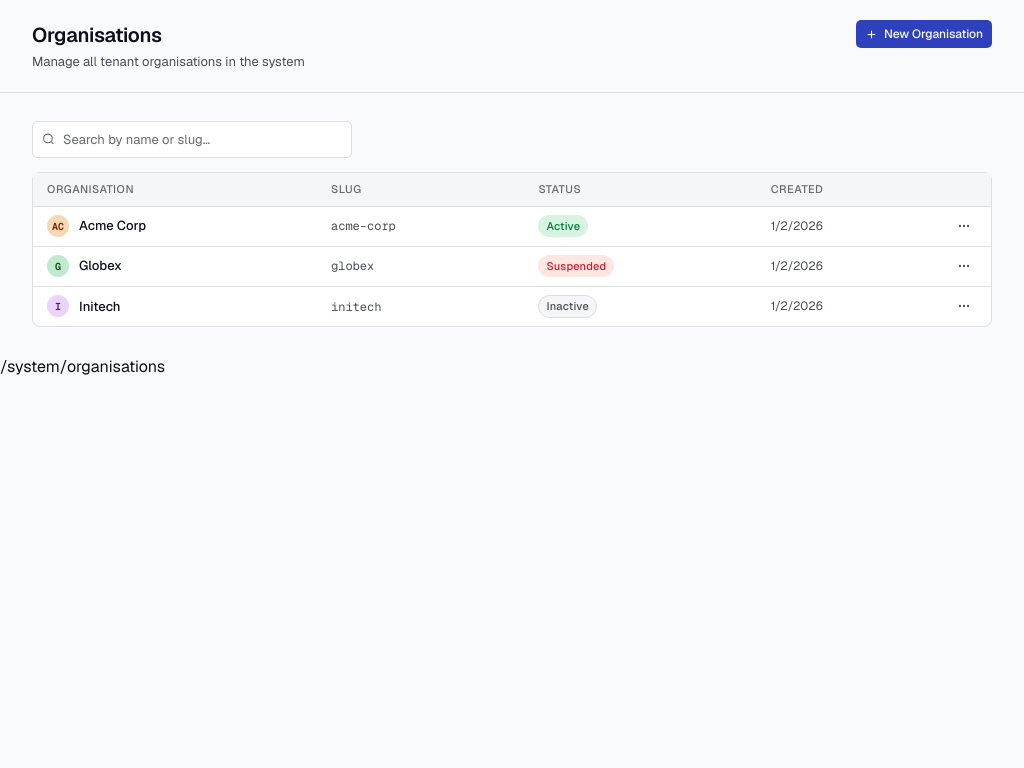
creating a tenant › turns a typed slug into a legal one as it is typed
This screenshot has width=1024, height=768.
Expected: the text "Acme Corp" is shown, [79,216,146,236]
Click the button "New Organisation" at (924, 34), box [856,20,992,48]
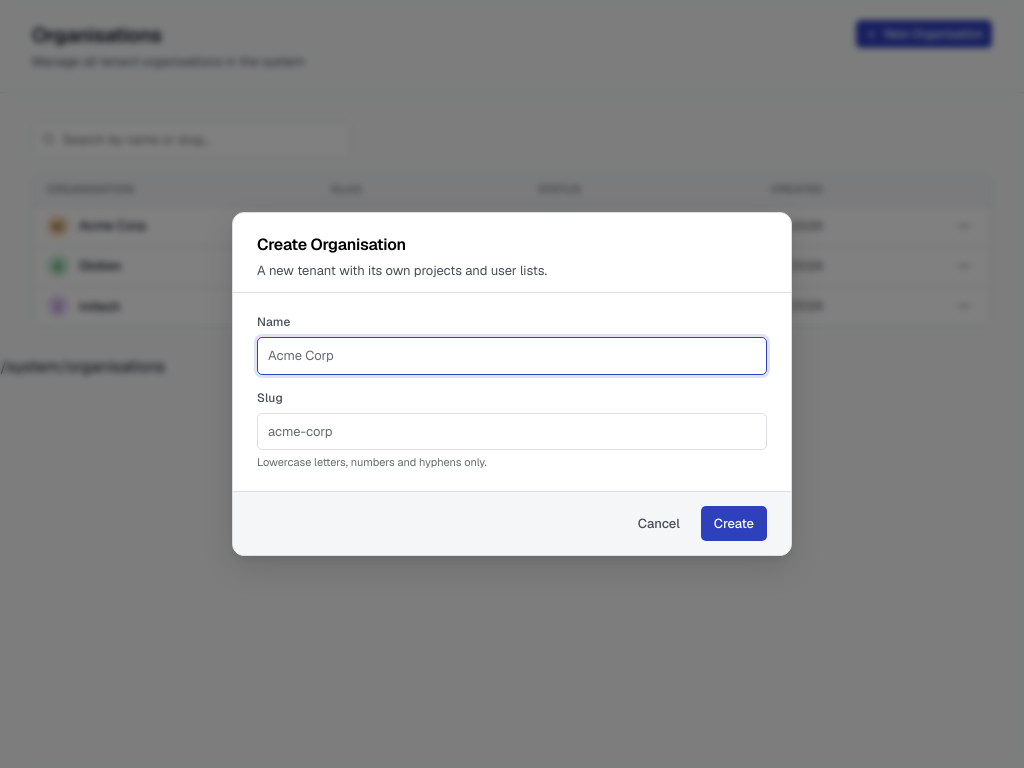
Type "Umbrella Corp" into the field labelled "Slug" at (512, 432), box [257,413,767,450]
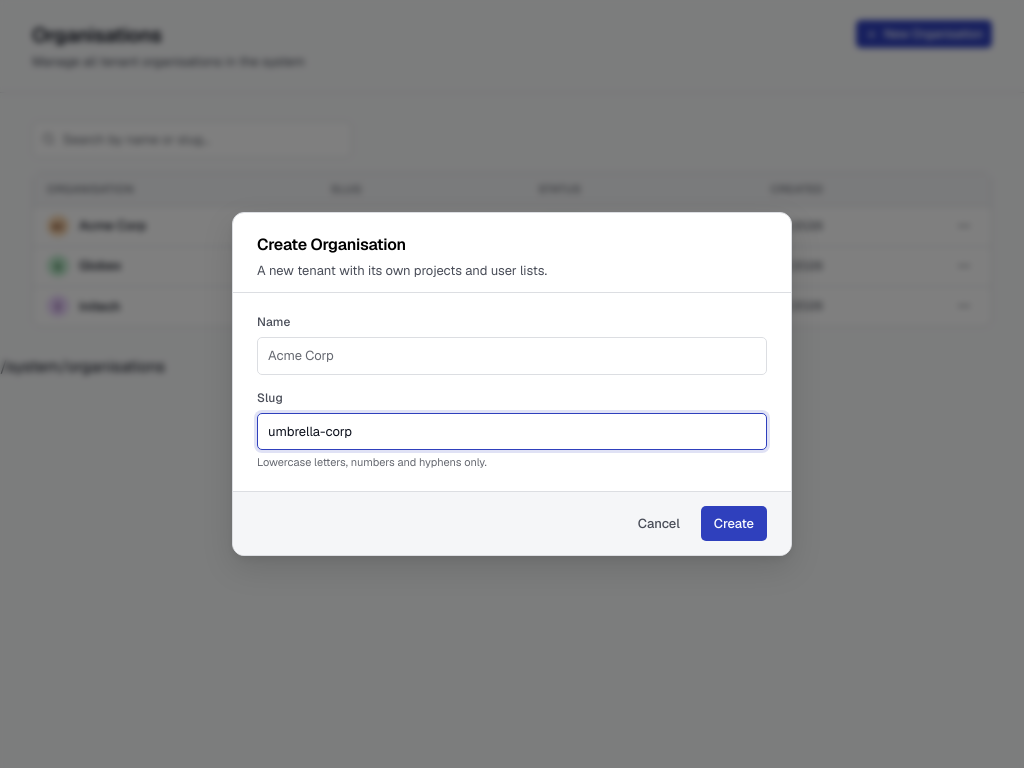
Result: the field labelled "Slug" holds "umbrella-corp" at [257,413,767,450]
